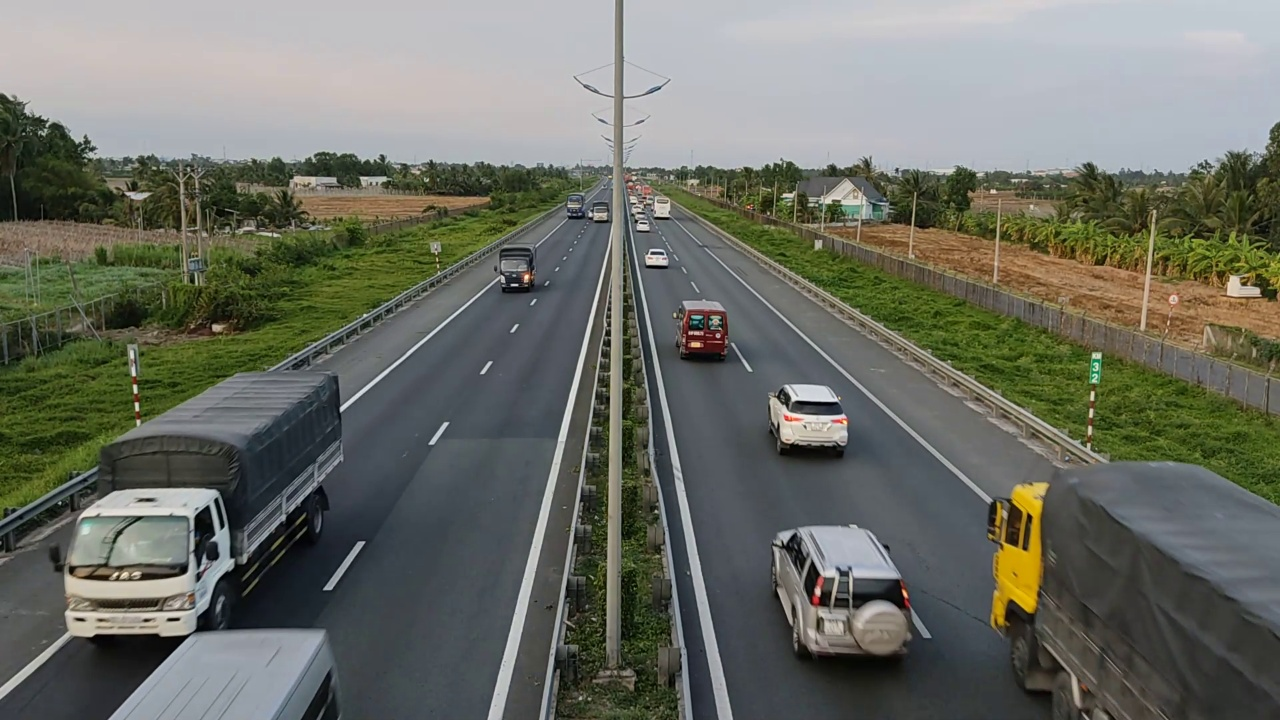car: (766, 382, 849, 455), (673, 299, 729, 360), (644, 247, 669, 269)
truck: (60, 369, 345, 641), (985, 461, 1278, 715), (769, 523, 933, 661), (494, 240, 541, 296)
